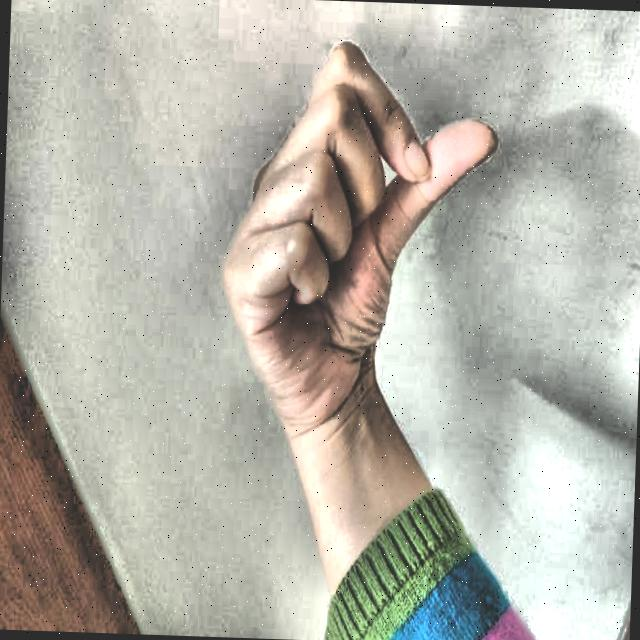Ay: (198, 11, 516, 434)
